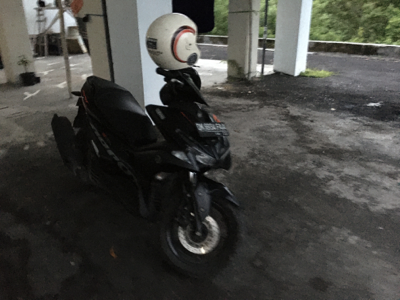moto: (54, 61, 247, 279)
